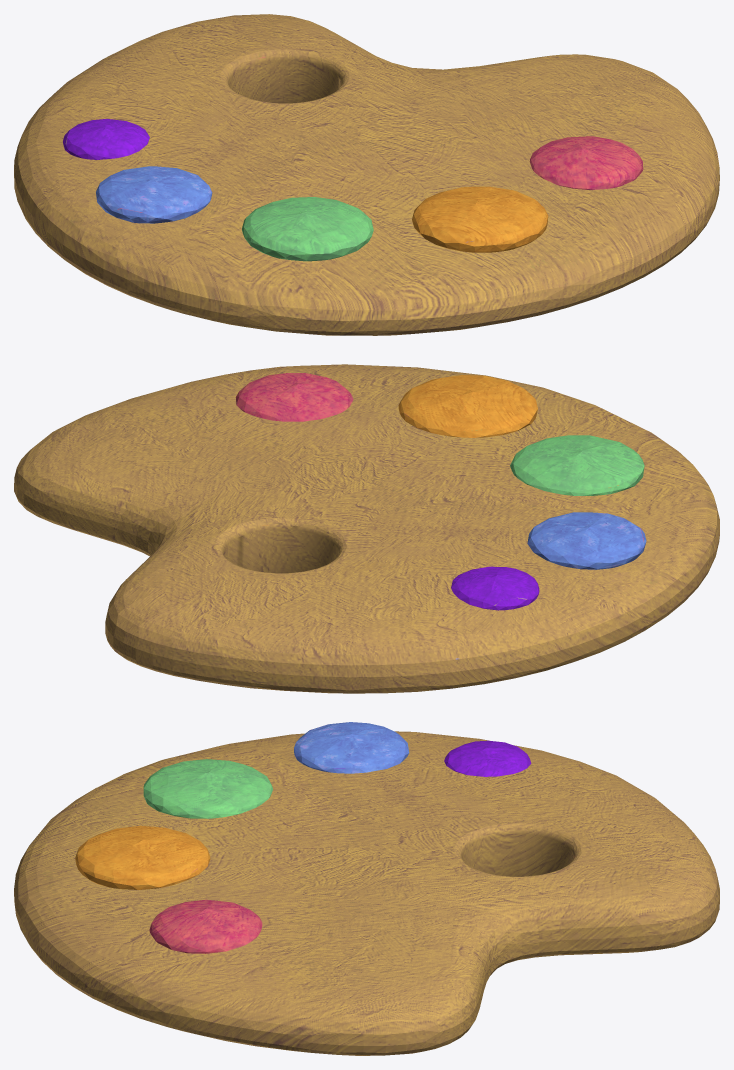
File: Palette(x).fbx
The picture shows the model from 3 angles, top to bottom: view 1: azimuth 30°, elevation 25°; view 2: azimuth 150°, elevation 25°; view 3: azimuth 270°, elevation 25°; orthographic projection. The views are drawn at different scales.
Visible parts, largest first — view 1: pALETTE.002; view 2: pALETTE.002; view 3: pALETTE.002.
Boxes of the visible parts, x1,y1,x2,y2 form: pALETTE.002: (14, 14, 719, 335); pALETTE.002: (14, 364, 719, 693); pALETTE.002: (14, 722, 719, 1055).
Bounding box in the file's own units: 1.29 × 1.29 × 0.1368.
